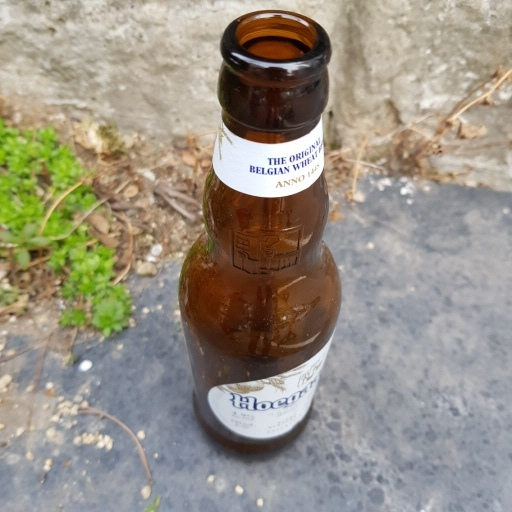Glass_1: (185, 8, 345, 462)
